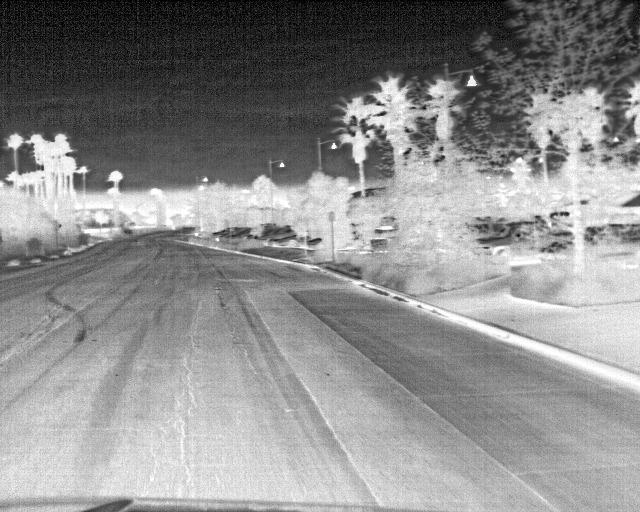car: (478, 219, 540, 263), (219, 226, 247, 244), (227, 226, 254, 244), (276, 232, 299, 249), (211, 228, 228, 241)
